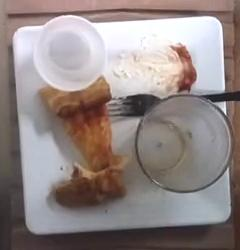pizza: (40, 76, 111, 171)
pizza_crust: (55, 155, 127, 207)
